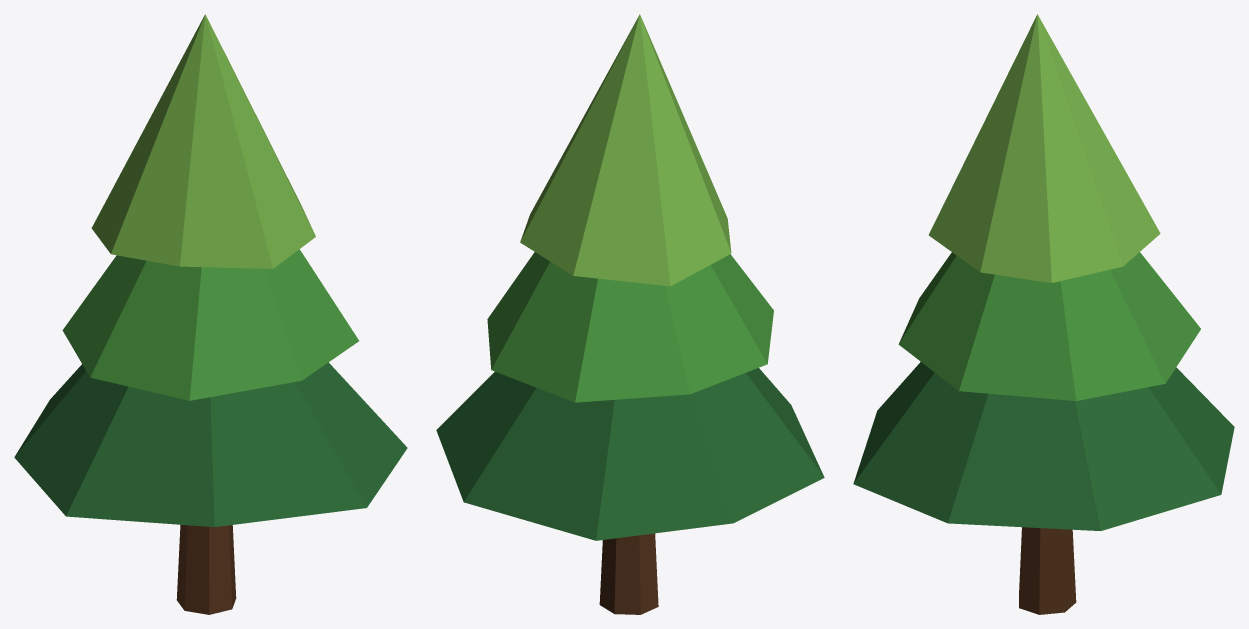
File: PineTree.glb
3 renders of one model, left to right at view 1: azimuth 30°, elevation 25°; view 2: azimuth 150°, elevation 25°; view 3: azimuth 270°, elevation 25°, orthographic.
Visible parts, largest first — view 1: PineTree; view 2: PineTree; view 3: PineTree.
Boxes of the visible parts, bbox=[...] form: PineTree: bbox=[14, 14, 407, 614]; PineTree: bbox=[436, 14, 824, 614]; PineTree: bbox=[853, 14, 1234, 614].
Bounding box in the file's own units: 2.03 × 3.42 × 2.02.
Materials: 1 (1 with a texture image).
